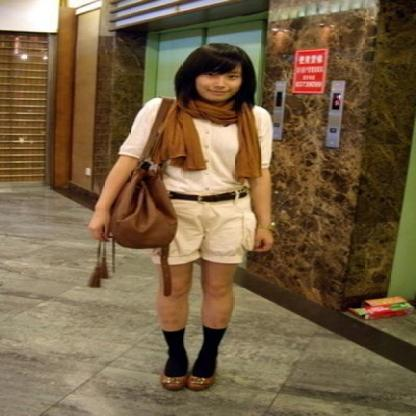bag: (88, 158, 186, 287)
shirt: (118, 84, 272, 204)
shoe: (180, 374, 213, 391)
shorts: (167, 192, 255, 264)
